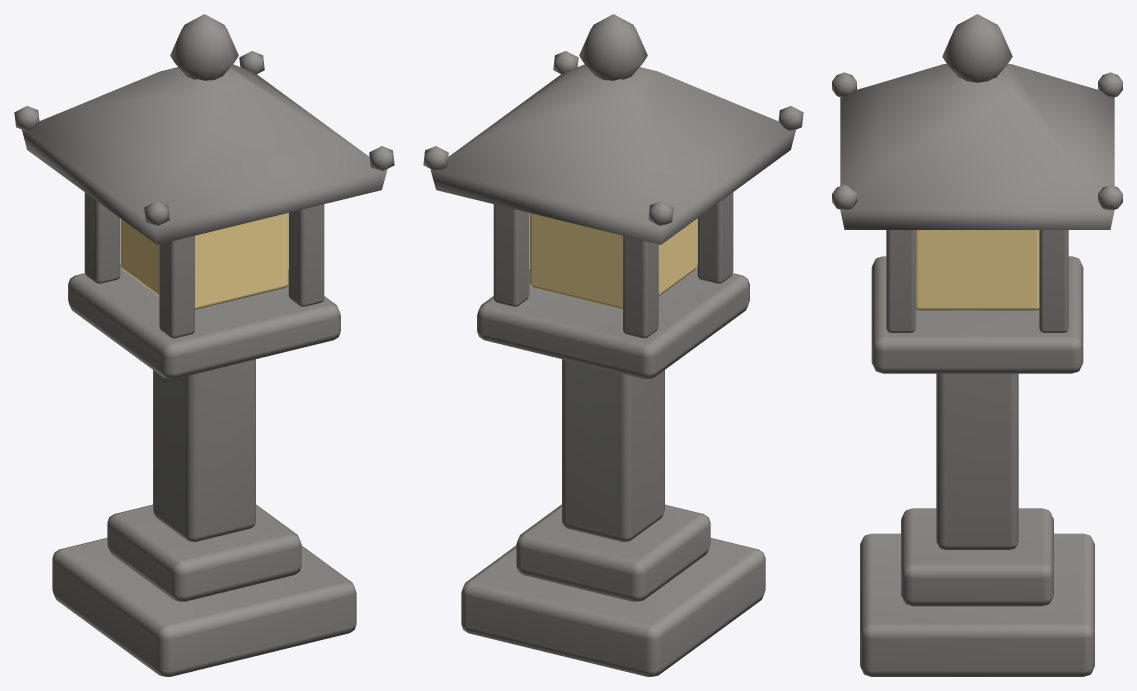
Rendered from furn_disp_lantern.glb.
3 renders of one model, left to right at view 1: azimuth 30°, elevation 25°; view 2: azimuth 150°, elevation 25°; view 3: azimuth 270°, elevation 25°, orthographic. The views are drawn at different scales.
Visible parts, largest first — view 1: furn_disp_lantern_main, furn_disp_lantern_glow; view 2: furn_disp_lantern_main, furn_disp_lantern_glow; view 3: furn_disp_lantern_main, furn_disp_lantern_glow.
Boxes of the visible parts, x1,y1,x2,y2 form: furn_disp_lantern_main: [14, 14, 394, 676]; furn_disp_lantern_glow: [120, 213, 288, 309]; furn_disp_lantern_main: [423, 14, 803, 676]; furn_disp_lantern_glow: [529, 213, 697, 309]; furn_disp_lantern_main: [832, 14, 1122, 676]; furn_disp_lantern_glow: [915, 230, 1039, 310].
Bounding box in the file's own units: 0.4973 × 1.16 × 0.4951.
